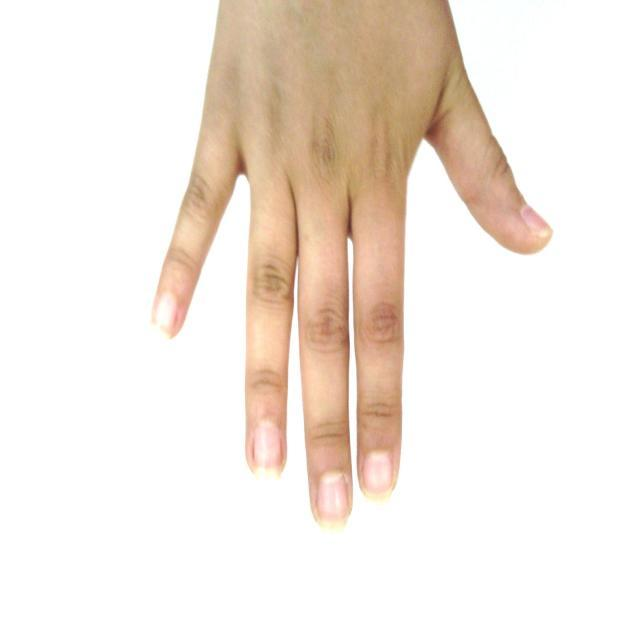Fingernail: (317, 474, 348, 530), (362, 453, 394, 502), (253, 424, 281, 479), (153, 294, 177, 339), (522, 206, 553, 236)
